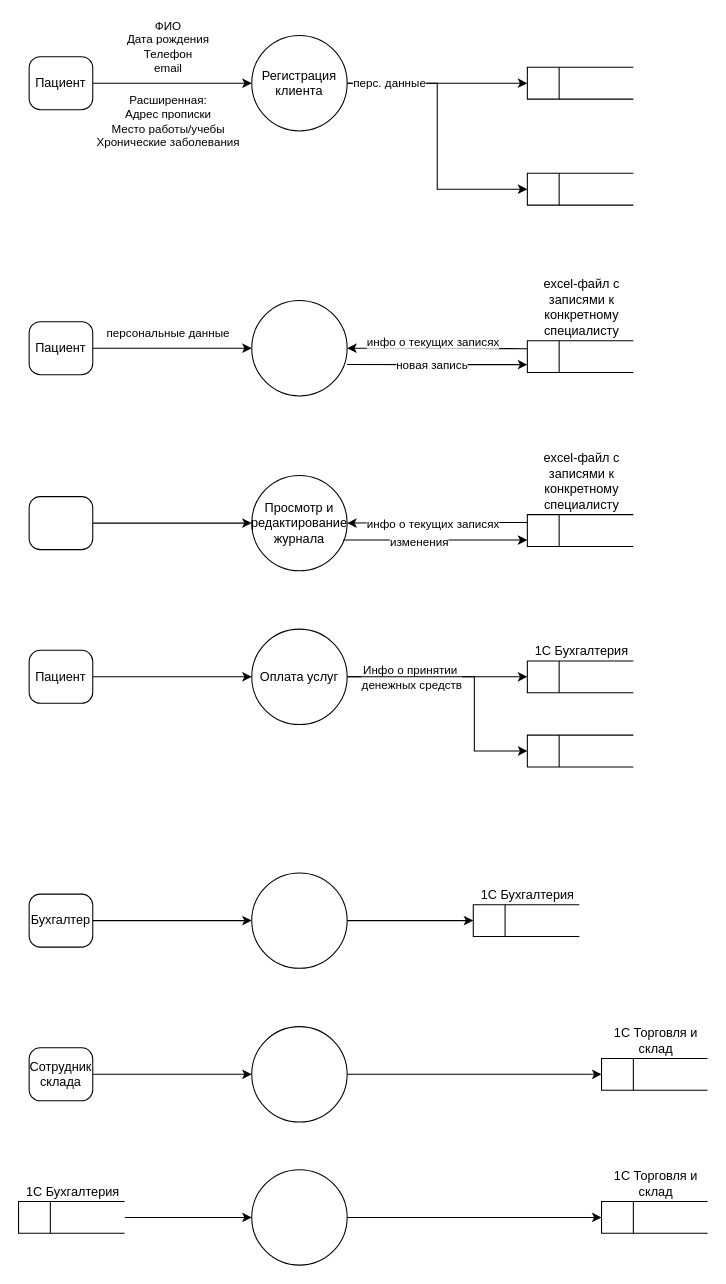
The diagram is 726 pixels wide and 1284 high, and some of its shapes have lost their labels. Here are the shapes that lost their labels. From the top down, the centre of each, then its label:
At point 579,82: "excel-файл с данными о пациентах".
At point 579,188: "файлы пациентов в разных форматах".
At point 299,347: "Запись пациента к специалисту".
At point 60,523: "Доктор".
At point 579,750: "excel-файл".
At point 299,920: "Процессинг платежей".
At point 299,1074: "Учет ТМЦ".
At point 299,1217: "Обмен данными".
